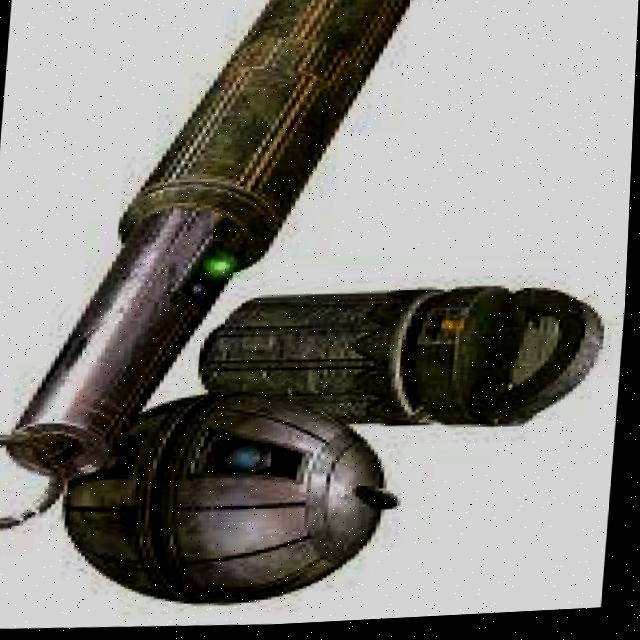grenade: (0, 0, 442, 493), (60, 389, 400, 634), (201, 270, 615, 444)
